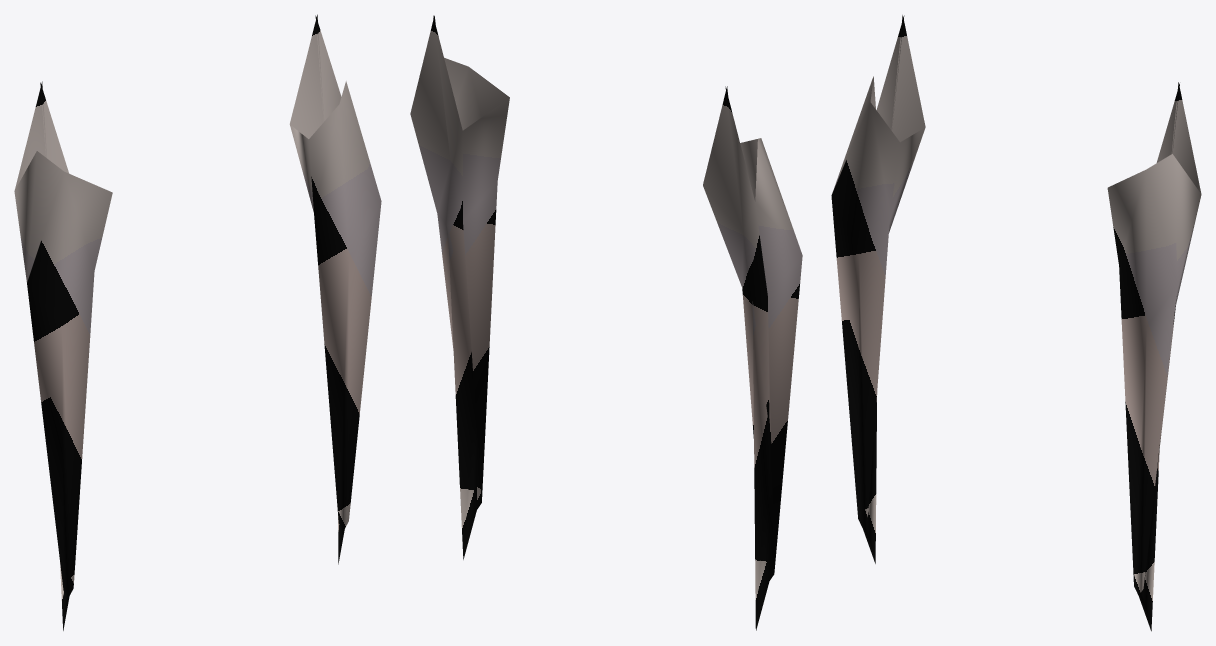
Rendered from veton_hair_1.dae.
3 renders of one model, left to right at view 1: azimuth 30°, elevation 25°; view 2: azimuth 150°, elevation 25°; view 3: azimuth 330°, elevation 25°, orthographic. The views are drawn at different scales.
Parts seen in each view (by area): view 1: head_female_shorthair.004; view 2: head_female_shorthair.004; view 3: head_female_shorthair.004.
Boxes of the visible parts, x1,y1,x2,y2 form: head_female_shorthair.004: (14,14,381,630); head_female_shorthair.004: (410,15,802,630); head_female_shorthair.004: (831,15,1201,631).
Bounding box in the file's own units: 0.21 × 0.039 × 0.3048.
